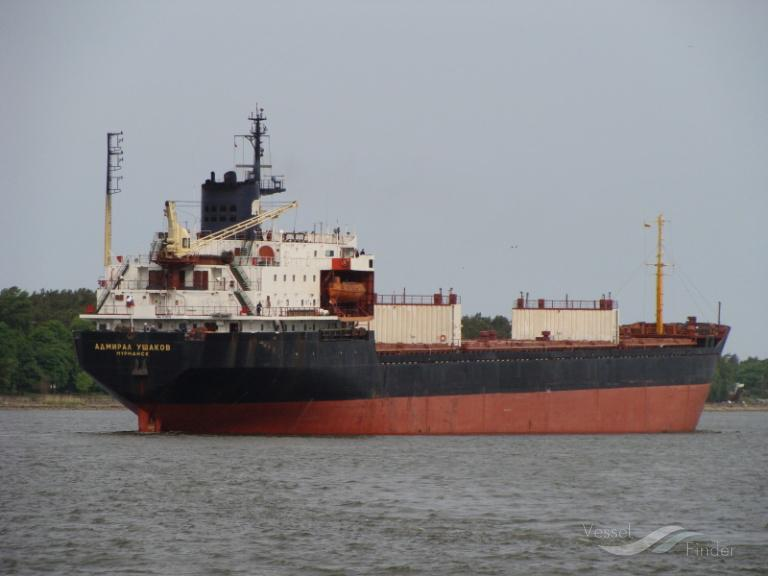OCR: (90, 338, 174, 363)
